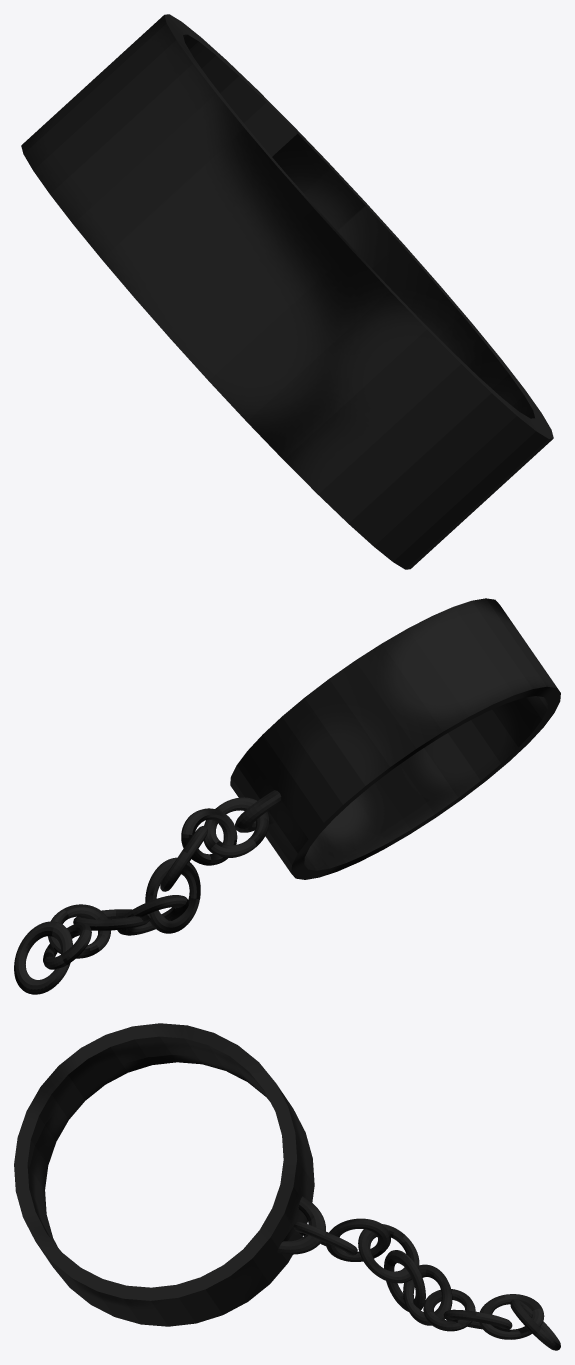
The model's file is KajdanyCieni.fbx.
3 renders of one model, top to bottom at view 1: azimuth 30°, elevation 25°; view 2: azimuth 150°, elevation 25°; view 3: azimuth 270°, elevation 25°, orthographic. The views are drawn at different scales.
Parts seen in each view (by area): view 1: Cylinder; view 2: Cylinder; view 3: Cylinder.
Boxes of the visible parts, bbox=[...] form: Cylinder: bbox=[21, 14, 553, 569]; Cylinder: bbox=[14, 598, 560, 994]; Cylinder: bbox=[14, 1023, 560, 1350].
Size of the model in its own units: 149 by 140 by 270.
1 material, 1 textured.
